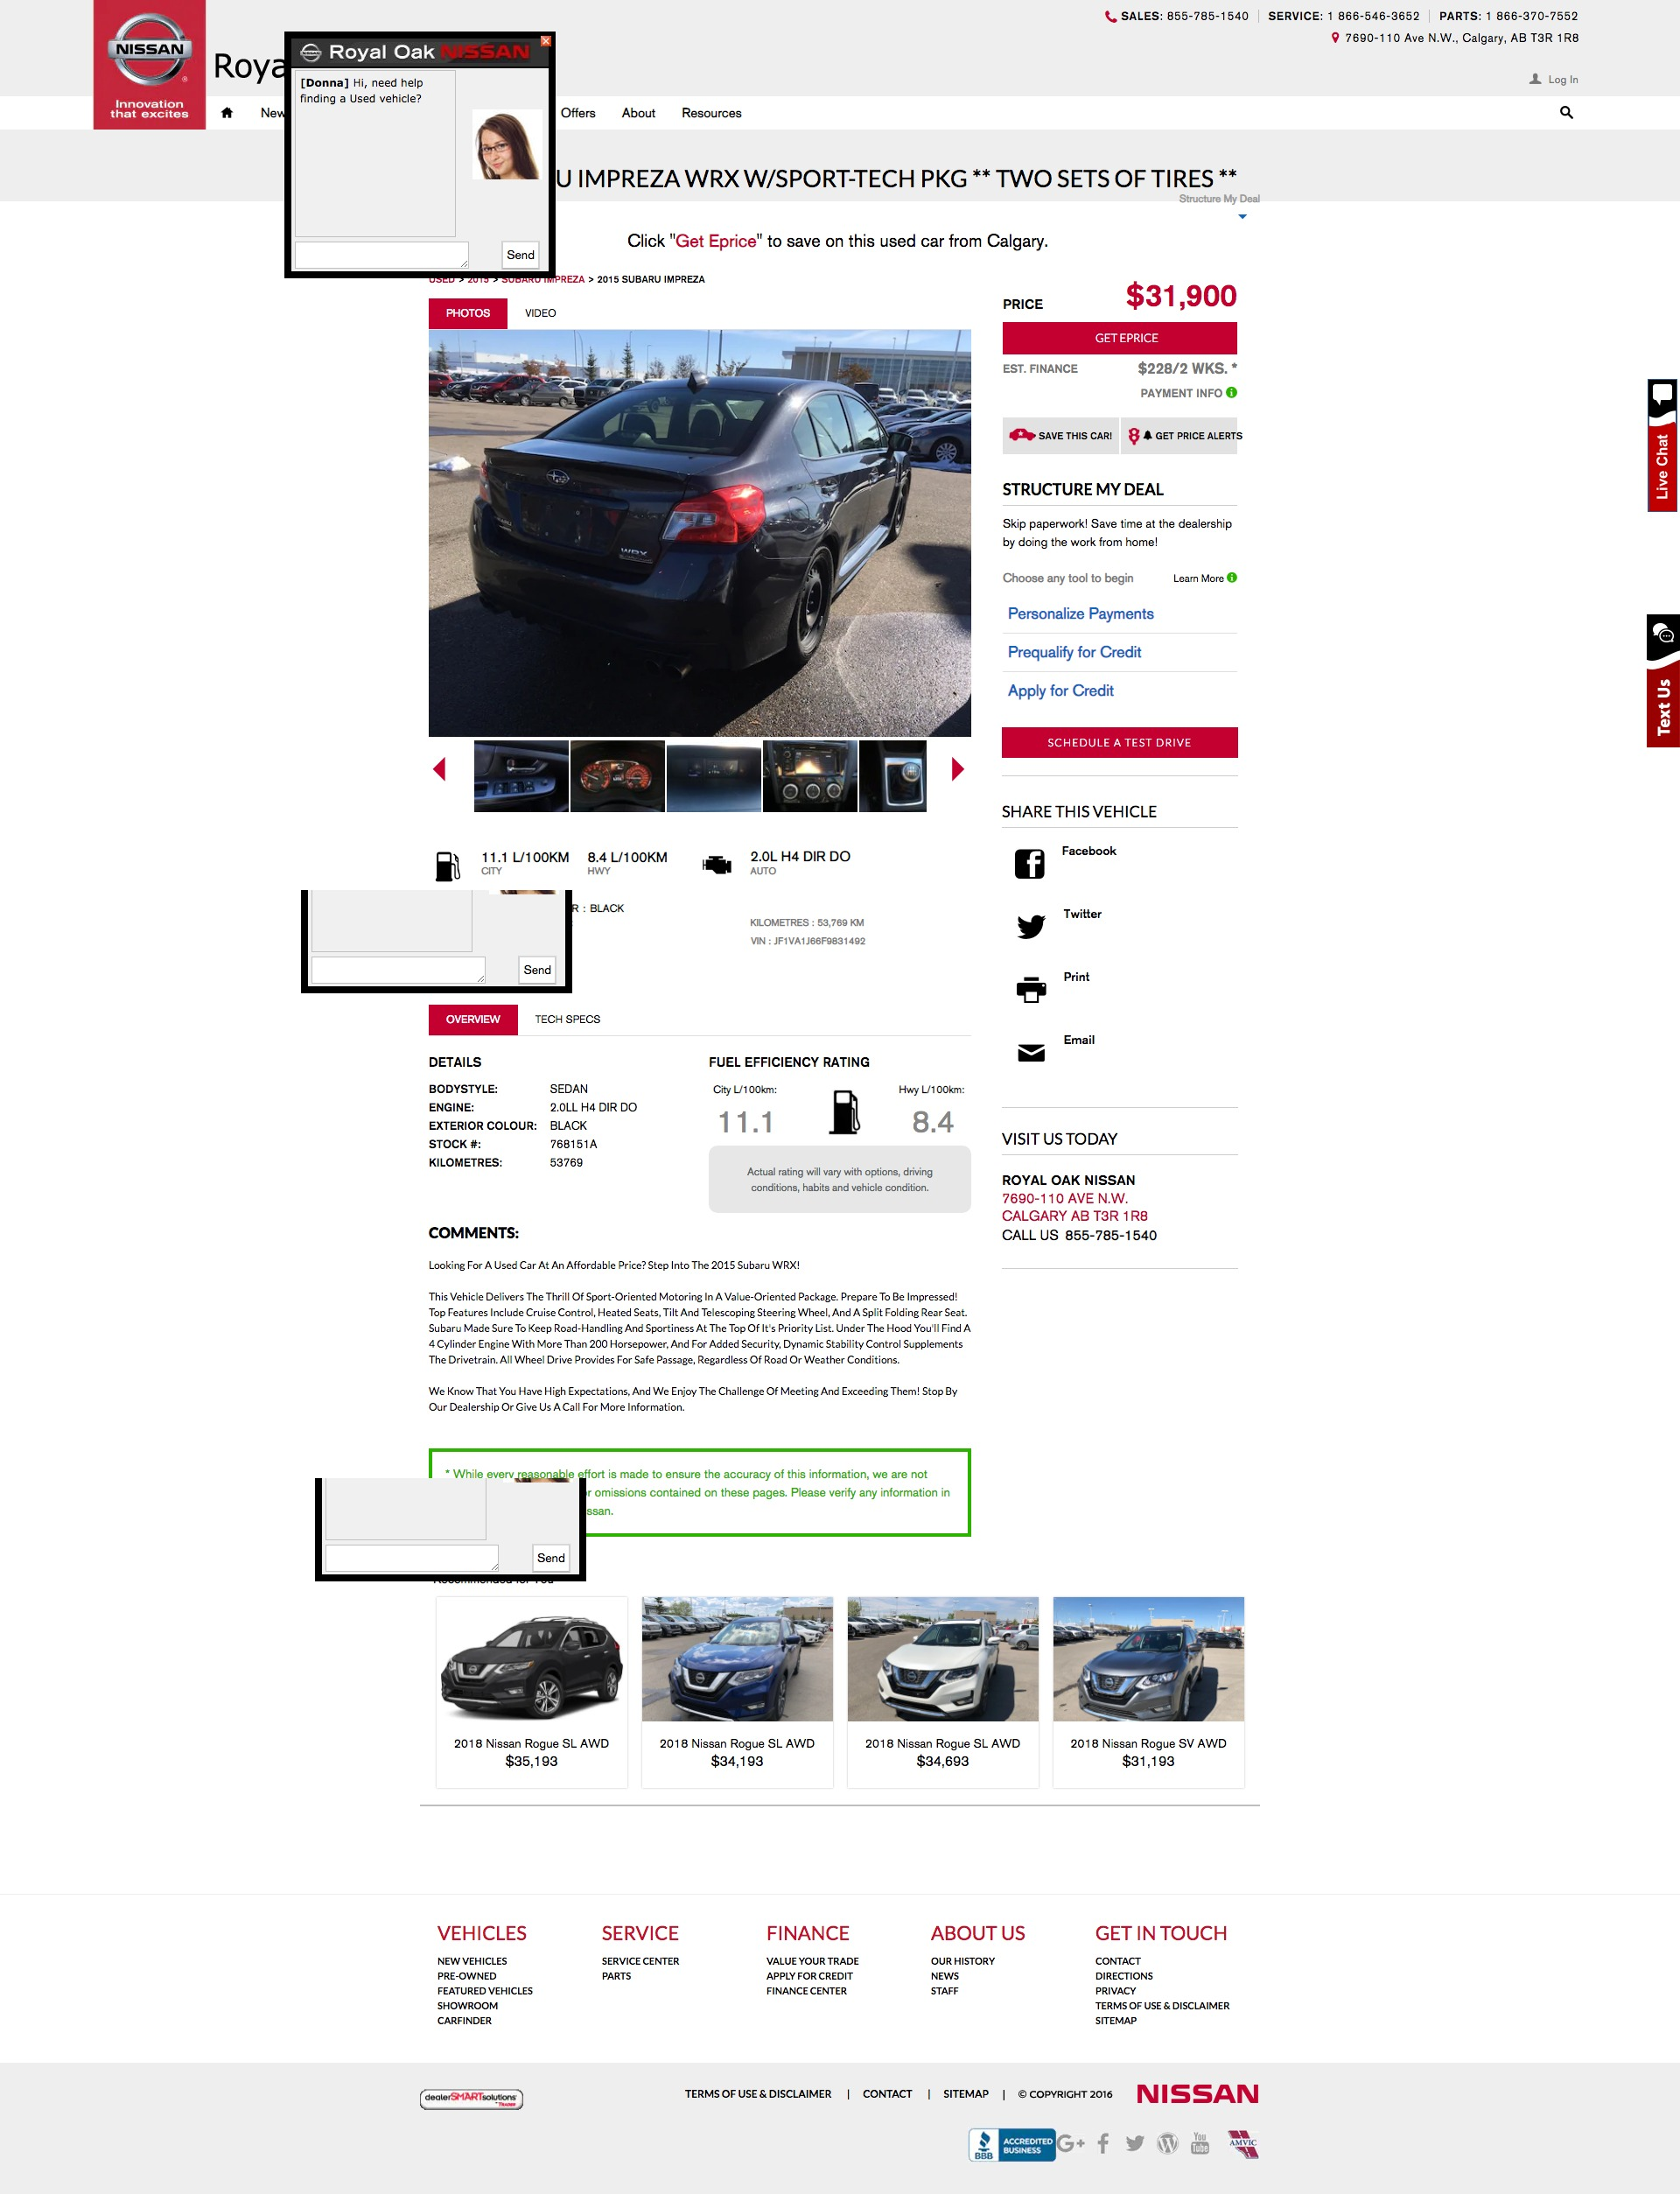car: (951, 757, 965, 784)
